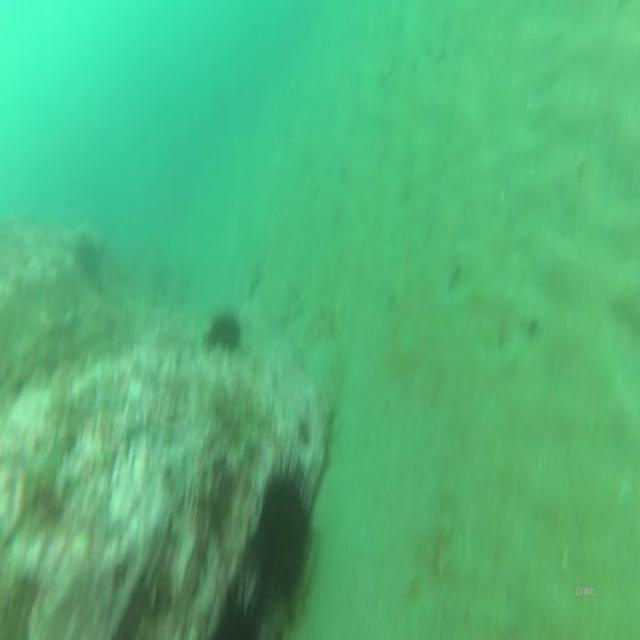echinus: (254, 471, 312, 613), (205, 308, 243, 359)
